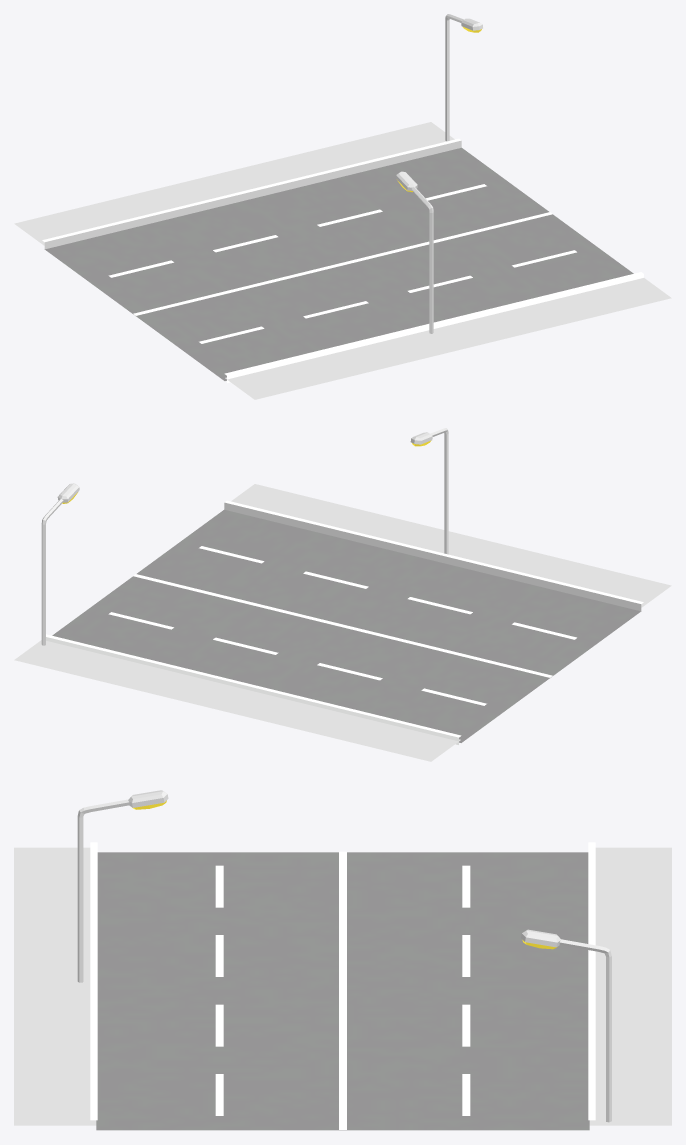
The model's file is road_tile_2x2_6.glb.
3 renders of one model, top to bottom at view 1: azimuth 30°, elevation 25°; view 2: azimuth 150°, elevation 25°; view 3: azimuth 270°, elevation 25°, orthographic. The views are drawn at different scales.
Visible parts, largest first — view 1: road_tile_2x2_6(Clone); view 2: road_tile_2x2_6(Clone); view 3: road_tile_2x2_6(Clone).
Part boxes in pixels (<box>): road_tile_2x2_6(Clone): <box>14,14,671,399</box>; road_tile_2x2_6(Clone): <box>14,428,671,761</box>; road_tile_2x2_6(Clone): <box>14,790,671,1130</box>.
Bounding box in the file's own units: 16 × 5.25 × 16.
Materials: 1 (1 with a texture image).
